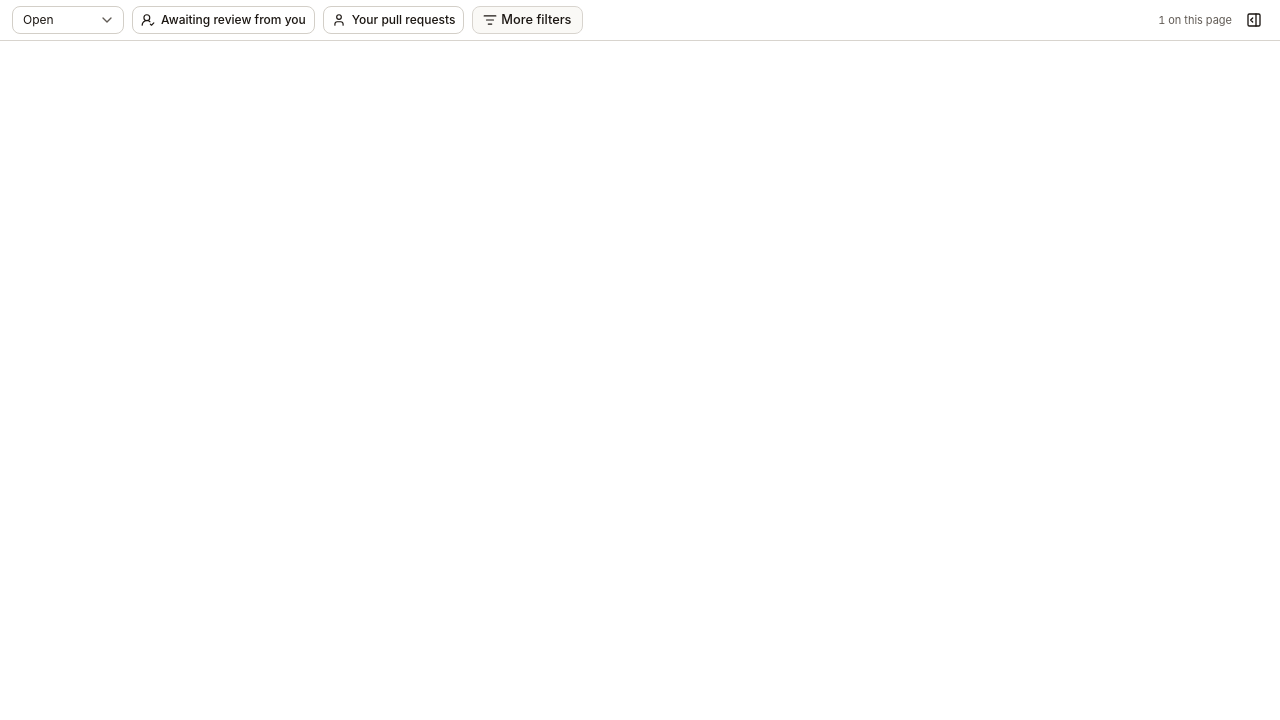
it: InboxFiltersBar More filters text fields › clears a refused base branch message on Escape without committing
Click the button "More filters" at (527, 20), box [472, 6, 582, 34]
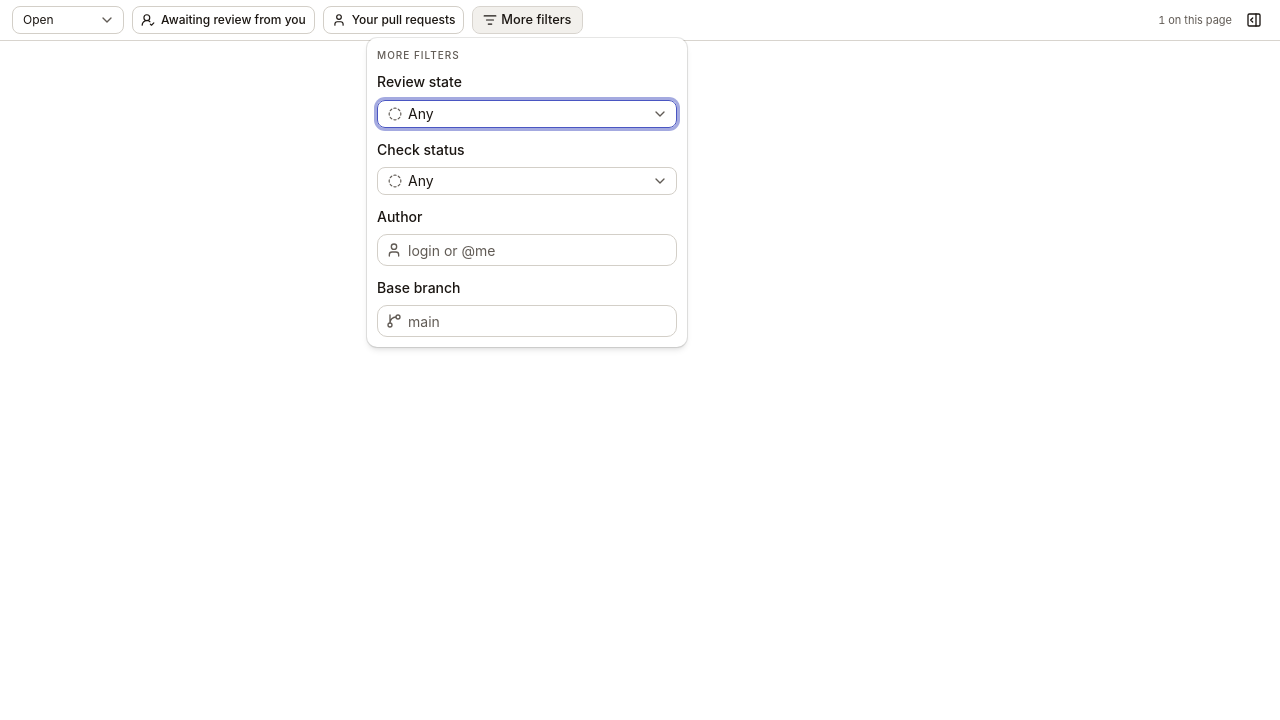
Type "release 1.0" into the field labelled "Base branch" at (539, 321), box [402, 305, 676, 337]
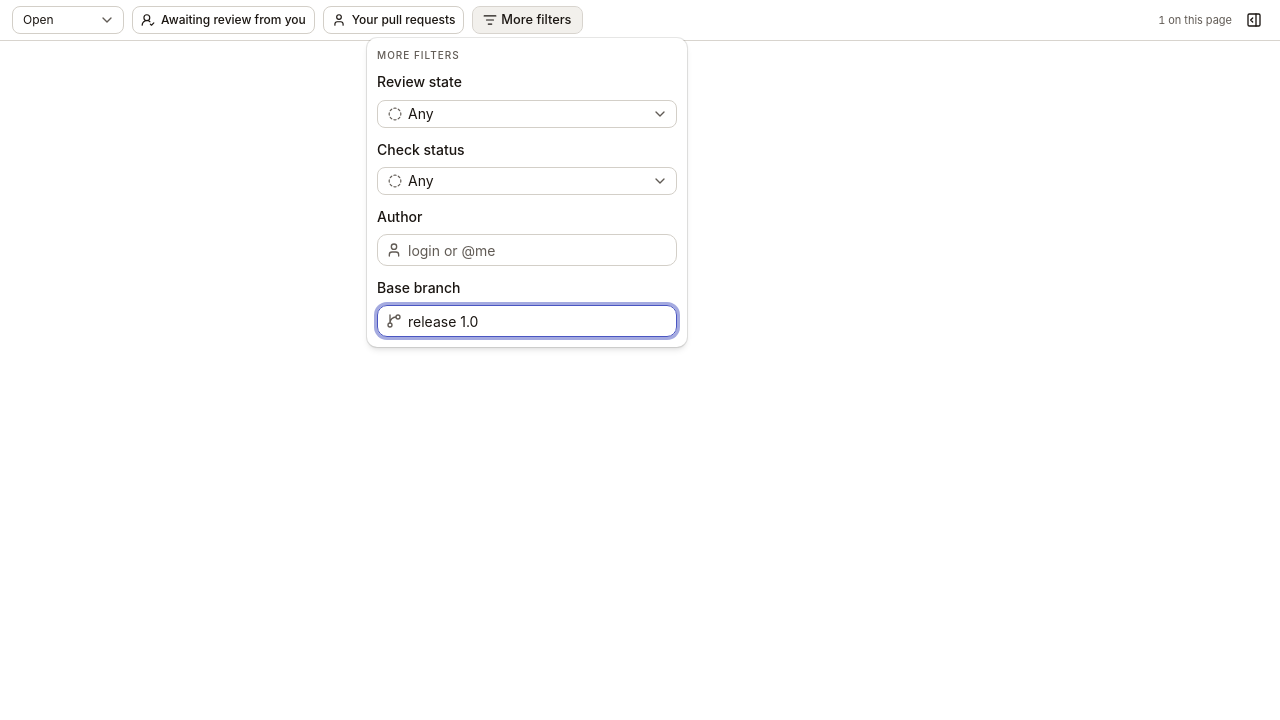
Press Enter
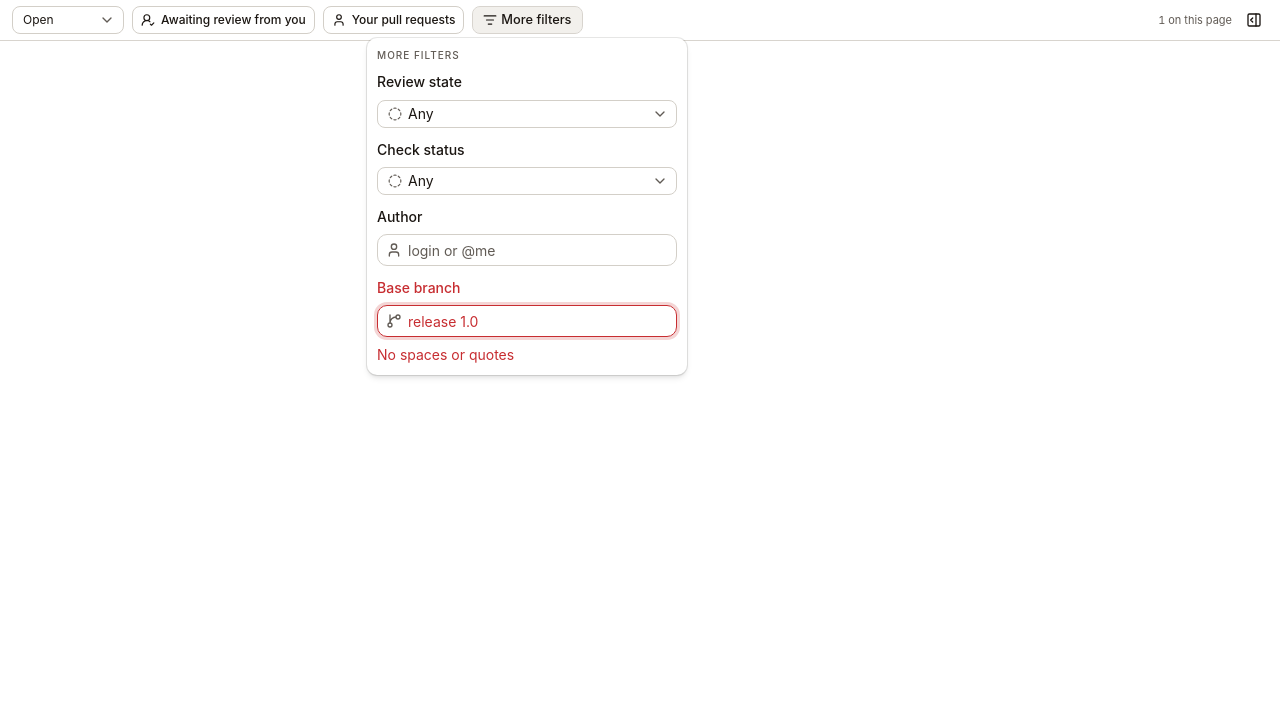
Expected: the message reads "No spaces or quotes", [377, 346, 514, 363]
Press Escape
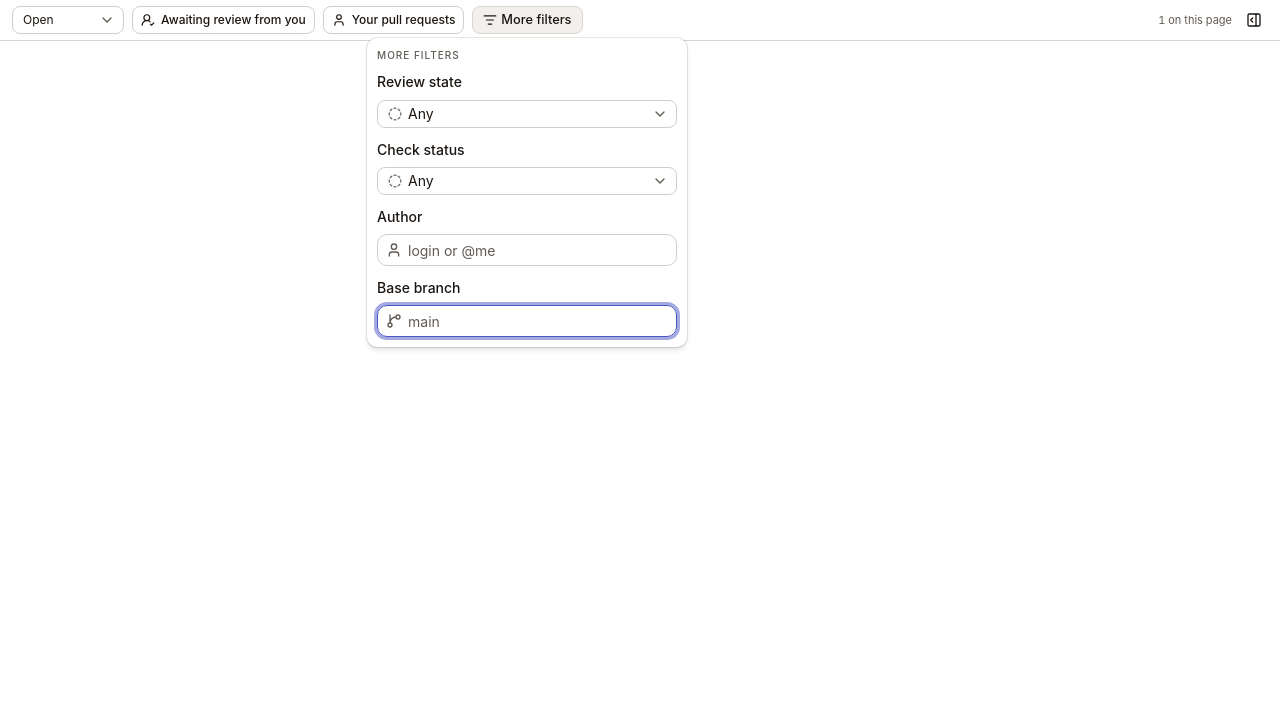
Expected: the message "No spaces or quotes" is gone
Expected: the field labelled "Base branch" is empty, [402, 305, 676, 337]
